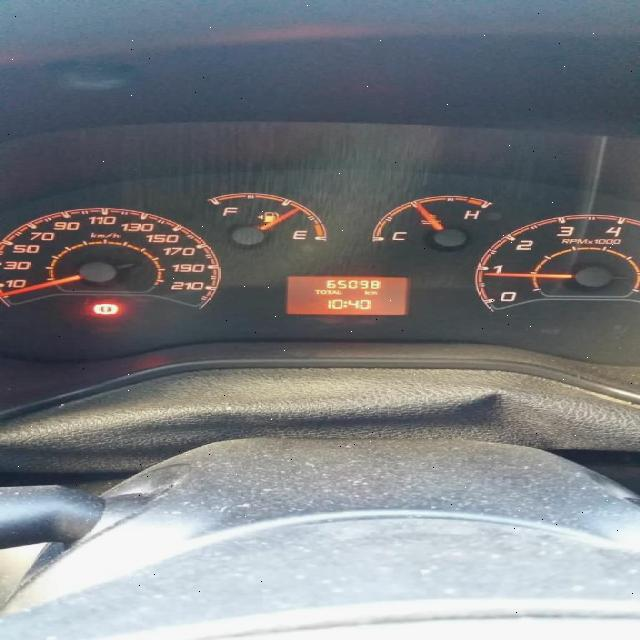odometer: (284, 274, 409, 316)
